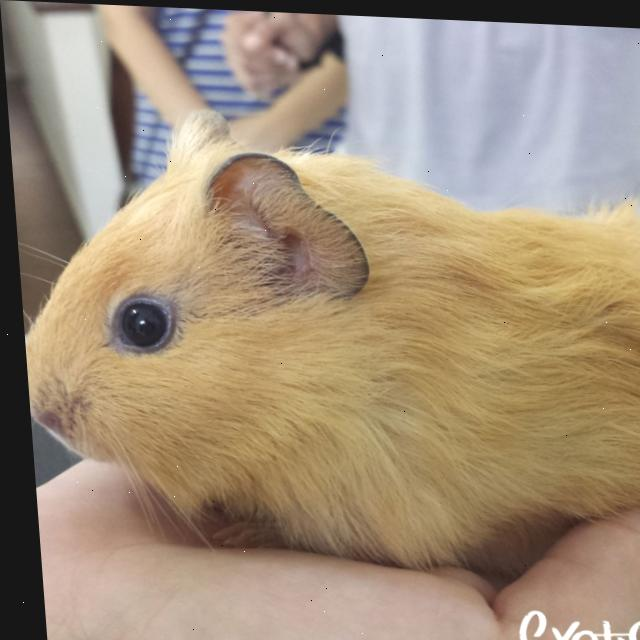guinea pig: (6, 108, 640, 575)
